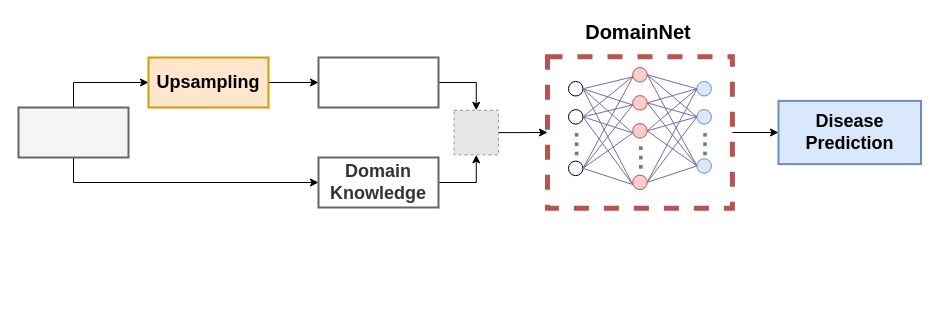
Some shapes in this 945 by 324 pixel diagram are drawn without their labels. Grey dashed boxes stand in for pictures. Here are the shapes that lost their labels. From the top down, the box of each, then its label:
(317, 56, 439, 108): Features
(17, 106, 129, 158): Data
